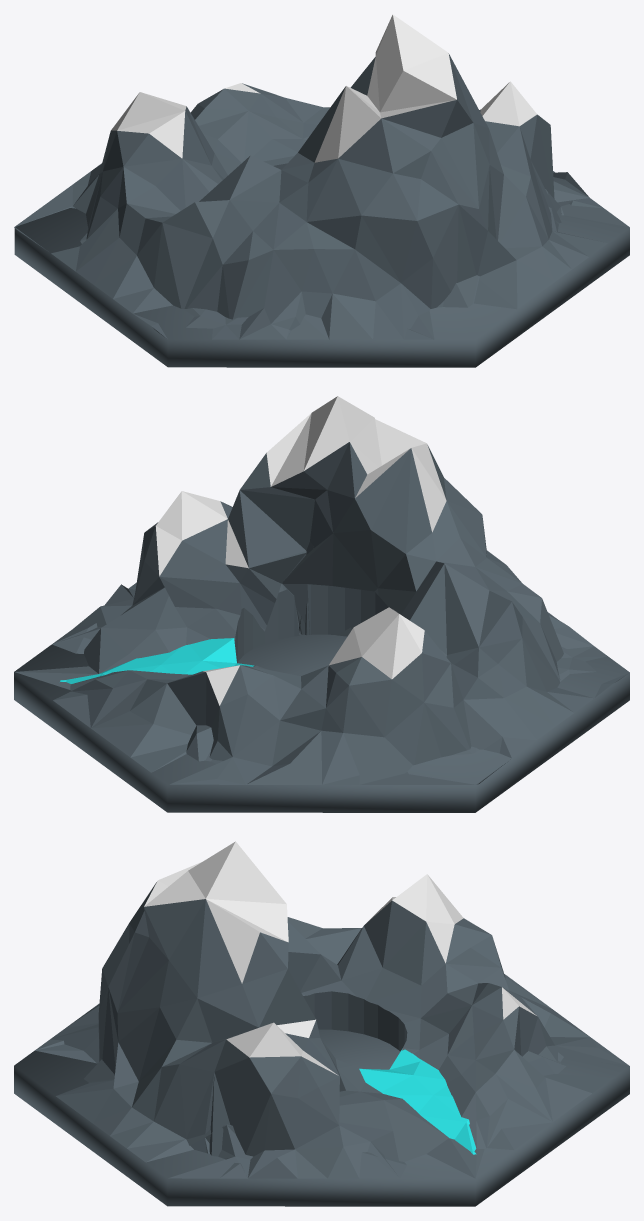
The model's file is ore.fbx.
3 renders of one model, top to bottom at view 1: azimuth 30°, elevation 25°; view 2: azimuth 150°, elevation 25°; view 3: azimuth 270°, elevation 25°, orthographic.
Parts seen in each view (by area): view 1: Plane.001; view 2: Plane.001; view 3: Plane.001.
Boxes of the visible parts, x1,y1,x2,y2 form: Plane.001: [14, 14, 629, 367]; Plane.001: [14, 396, 629, 812]; Plane.001: [14, 841, 629, 1206].
Bounding box in the file's own units: 2 × 1.74 × 0.9569.
